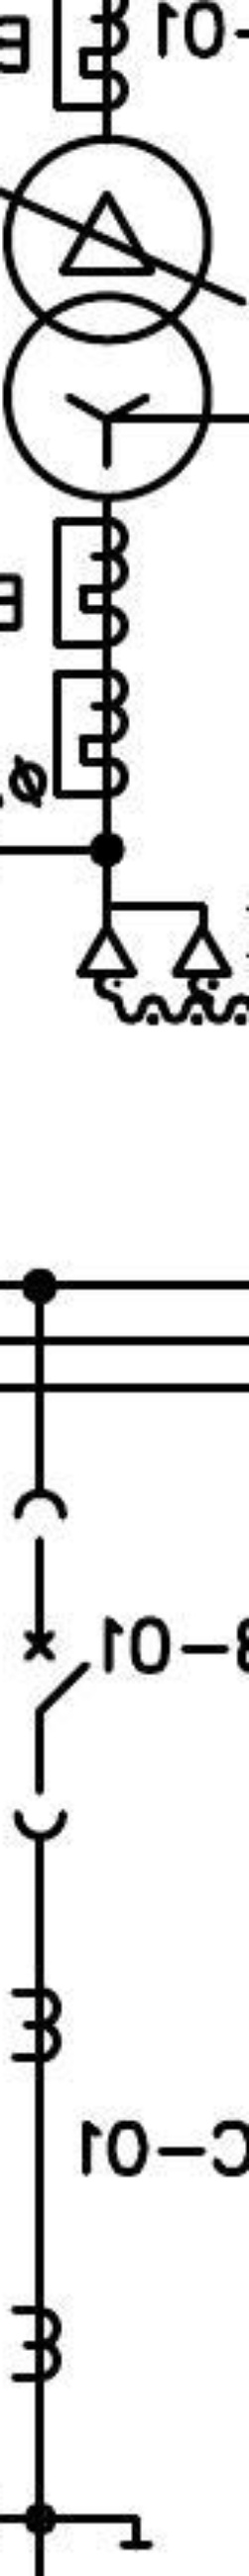11522_tx_dyn1: (0, 133, 215, 504)
22_breaker: (10, 1487, 95, 1842)
terminator_double: (75, 900, 233, 979)
